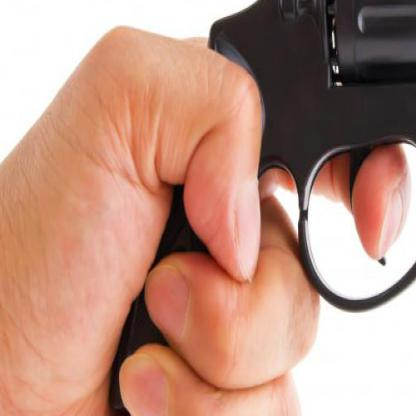gun: (93, 0, 415, 415)
